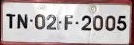character: (91, 15, 103, 31), (34, 13, 45, 29), (45, 14, 56, 30), (104, 15, 115, 31), (116, 15, 127, 31), (5, 13, 16, 28), (81, 15, 92, 30), (17, 13, 27, 29), (64, 14, 73, 30)
